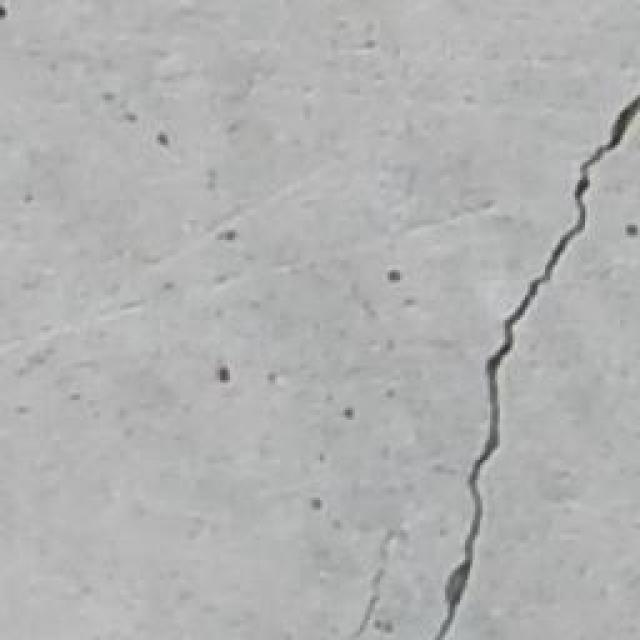concrete-crack: (435, 90, 640, 640)
